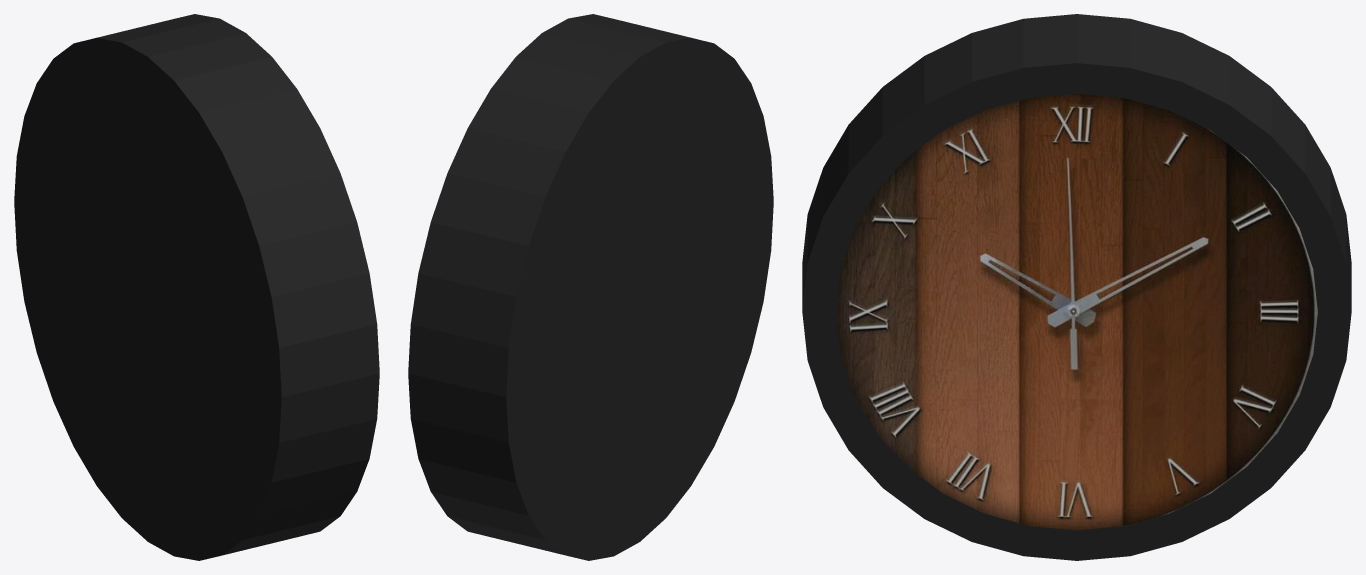
Rendered from jamdinding.fbx.
The picture shows the model from 3 angles, left to right: view 1: azimuth 30°, elevation 25°; view 2: azimuth 150°, elevation 25°; view 3: azimuth 270°, elevation 25°; orthographic projection. The views are drawn at different scales.
Parts seen in each view (by area): view 1: Cylinder; view 2: Cylinder; view 3: Cylinder.
Boxes of the visible parts, x1,y1,x2,y2 form: Cylinder: (14,14,379,560); Cylinder: (408,14,773,560); Cylinder: (802,14,1351,560).
Bounding box in the file's own units: 42.31 × 200 × 200.
Materials: 2 (1 with a texture image).
